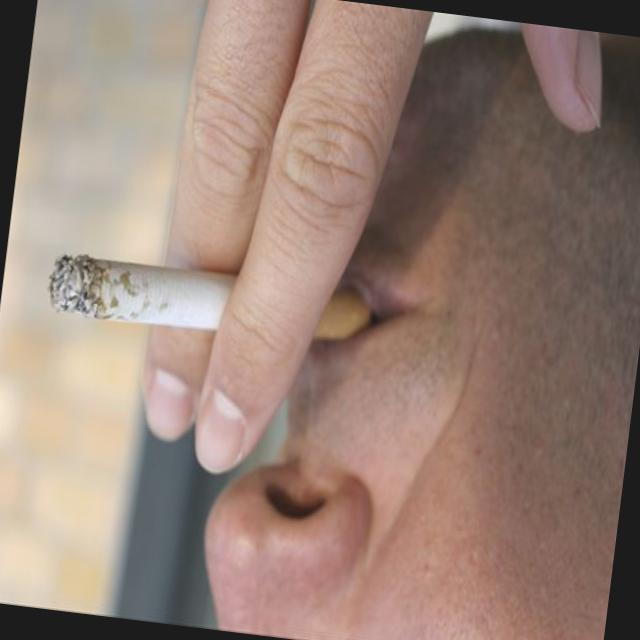smoke: (45, 218, 377, 362)
